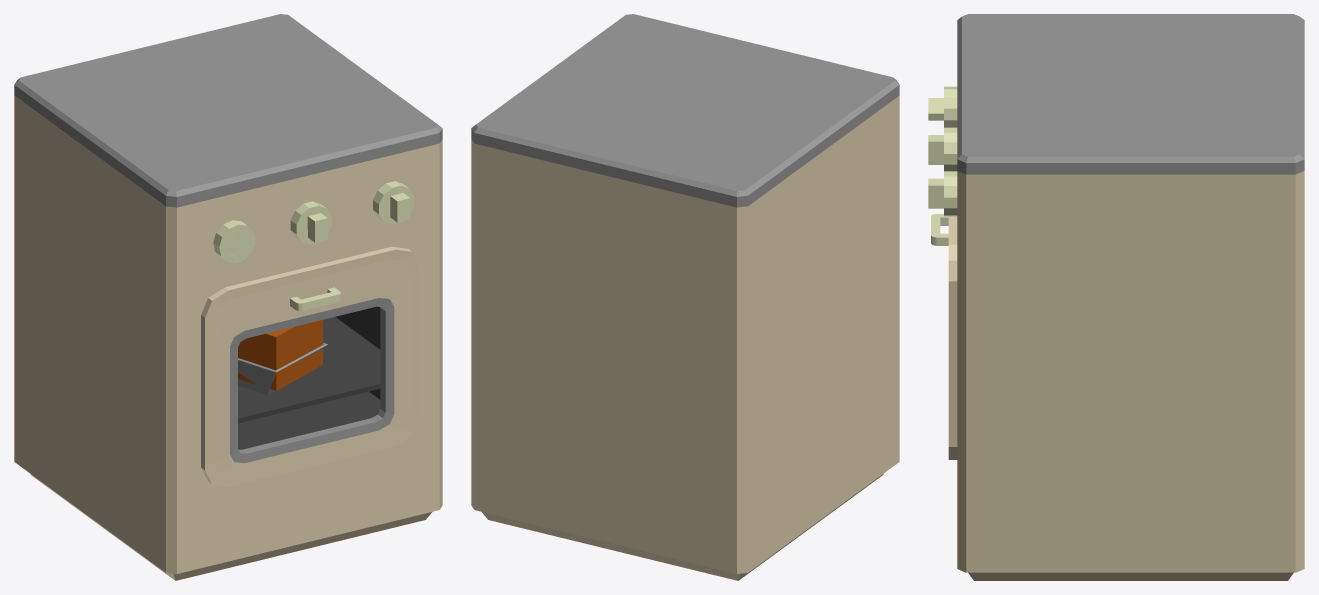
File: Oven 1.glb
3 views of the same model, side by side, from view 1: azimuth 30°, elevation 25°; view 2: azimuth 150°, elevation 25°; view 3: azimuth 270°, elevation 25° (orthographic). The views are drawn at different scales.
Parts seen in each view (by area): view 1: Knobs.006; view 2: Knobs.006; view 3: Knobs.006.
Part boxes in pixels (x1,y1,x2,y2): Knobs.006: (14,14,442,580); Knobs.006: (471,14,899,580); Knobs.006: (928,14,1304,580).
Size of the model in its own units: 1.08 by 1.47 by 1.17.
